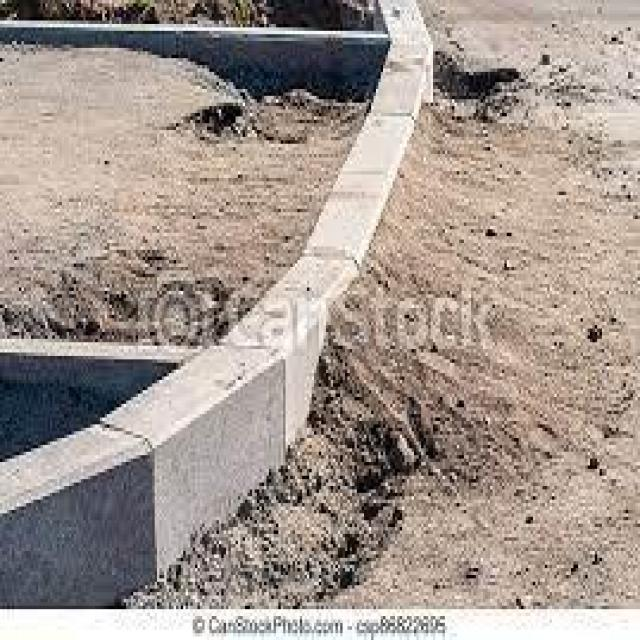curb: (102, 339, 286, 585), (1, 425, 154, 610), (213, 257, 355, 451), (304, 111, 415, 267)
